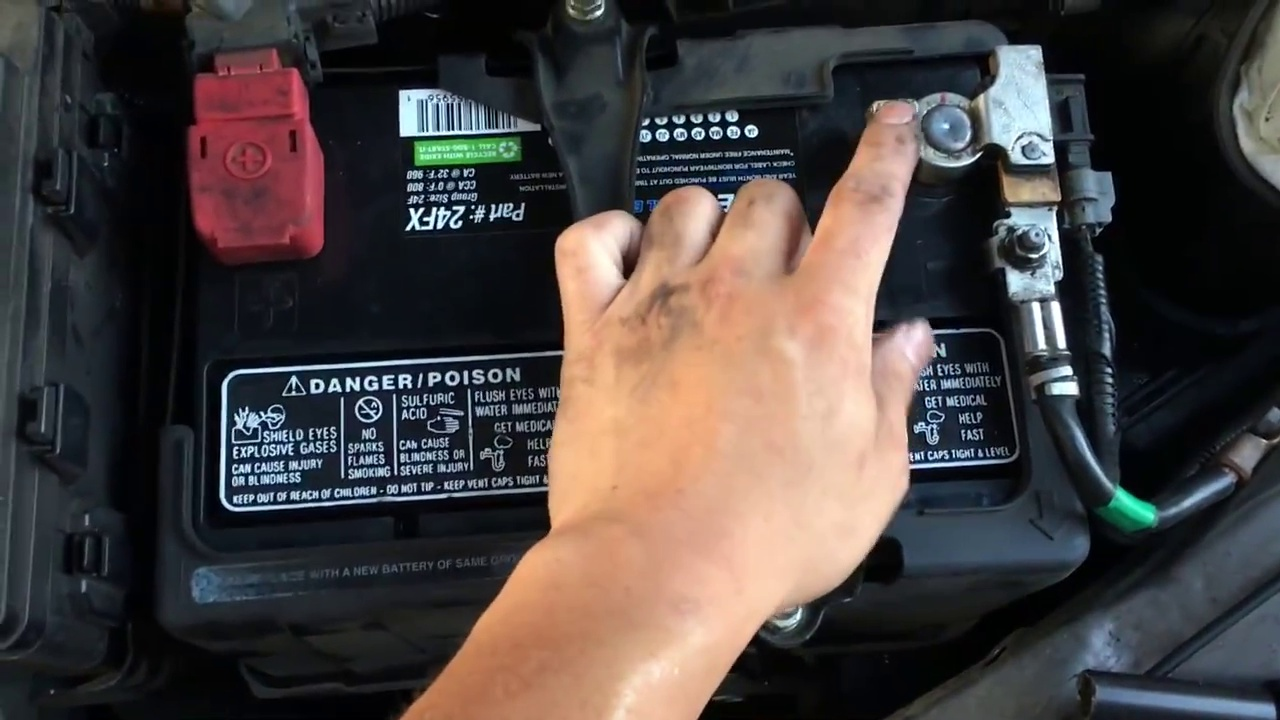battery: (168, 41, 1099, 587)
neg_connected: (865, 36, 1061, 206)
neg_touched: (821, 60, 1072, 218)
pos_connected: (162, 31, 342, 266)
